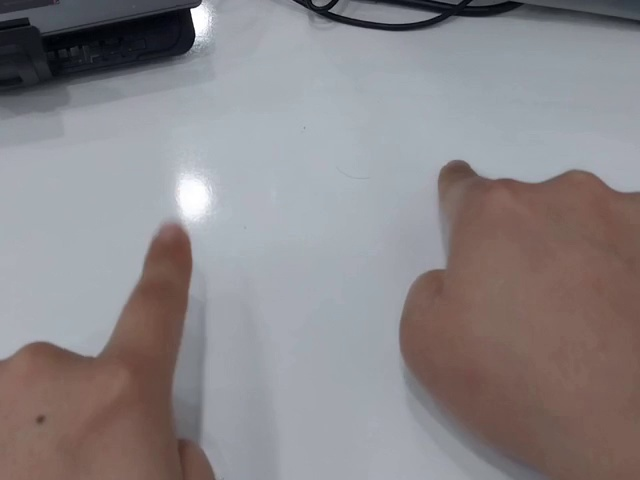fingers: (145, 220, 193, 273), (436, 158, 480, 189)
